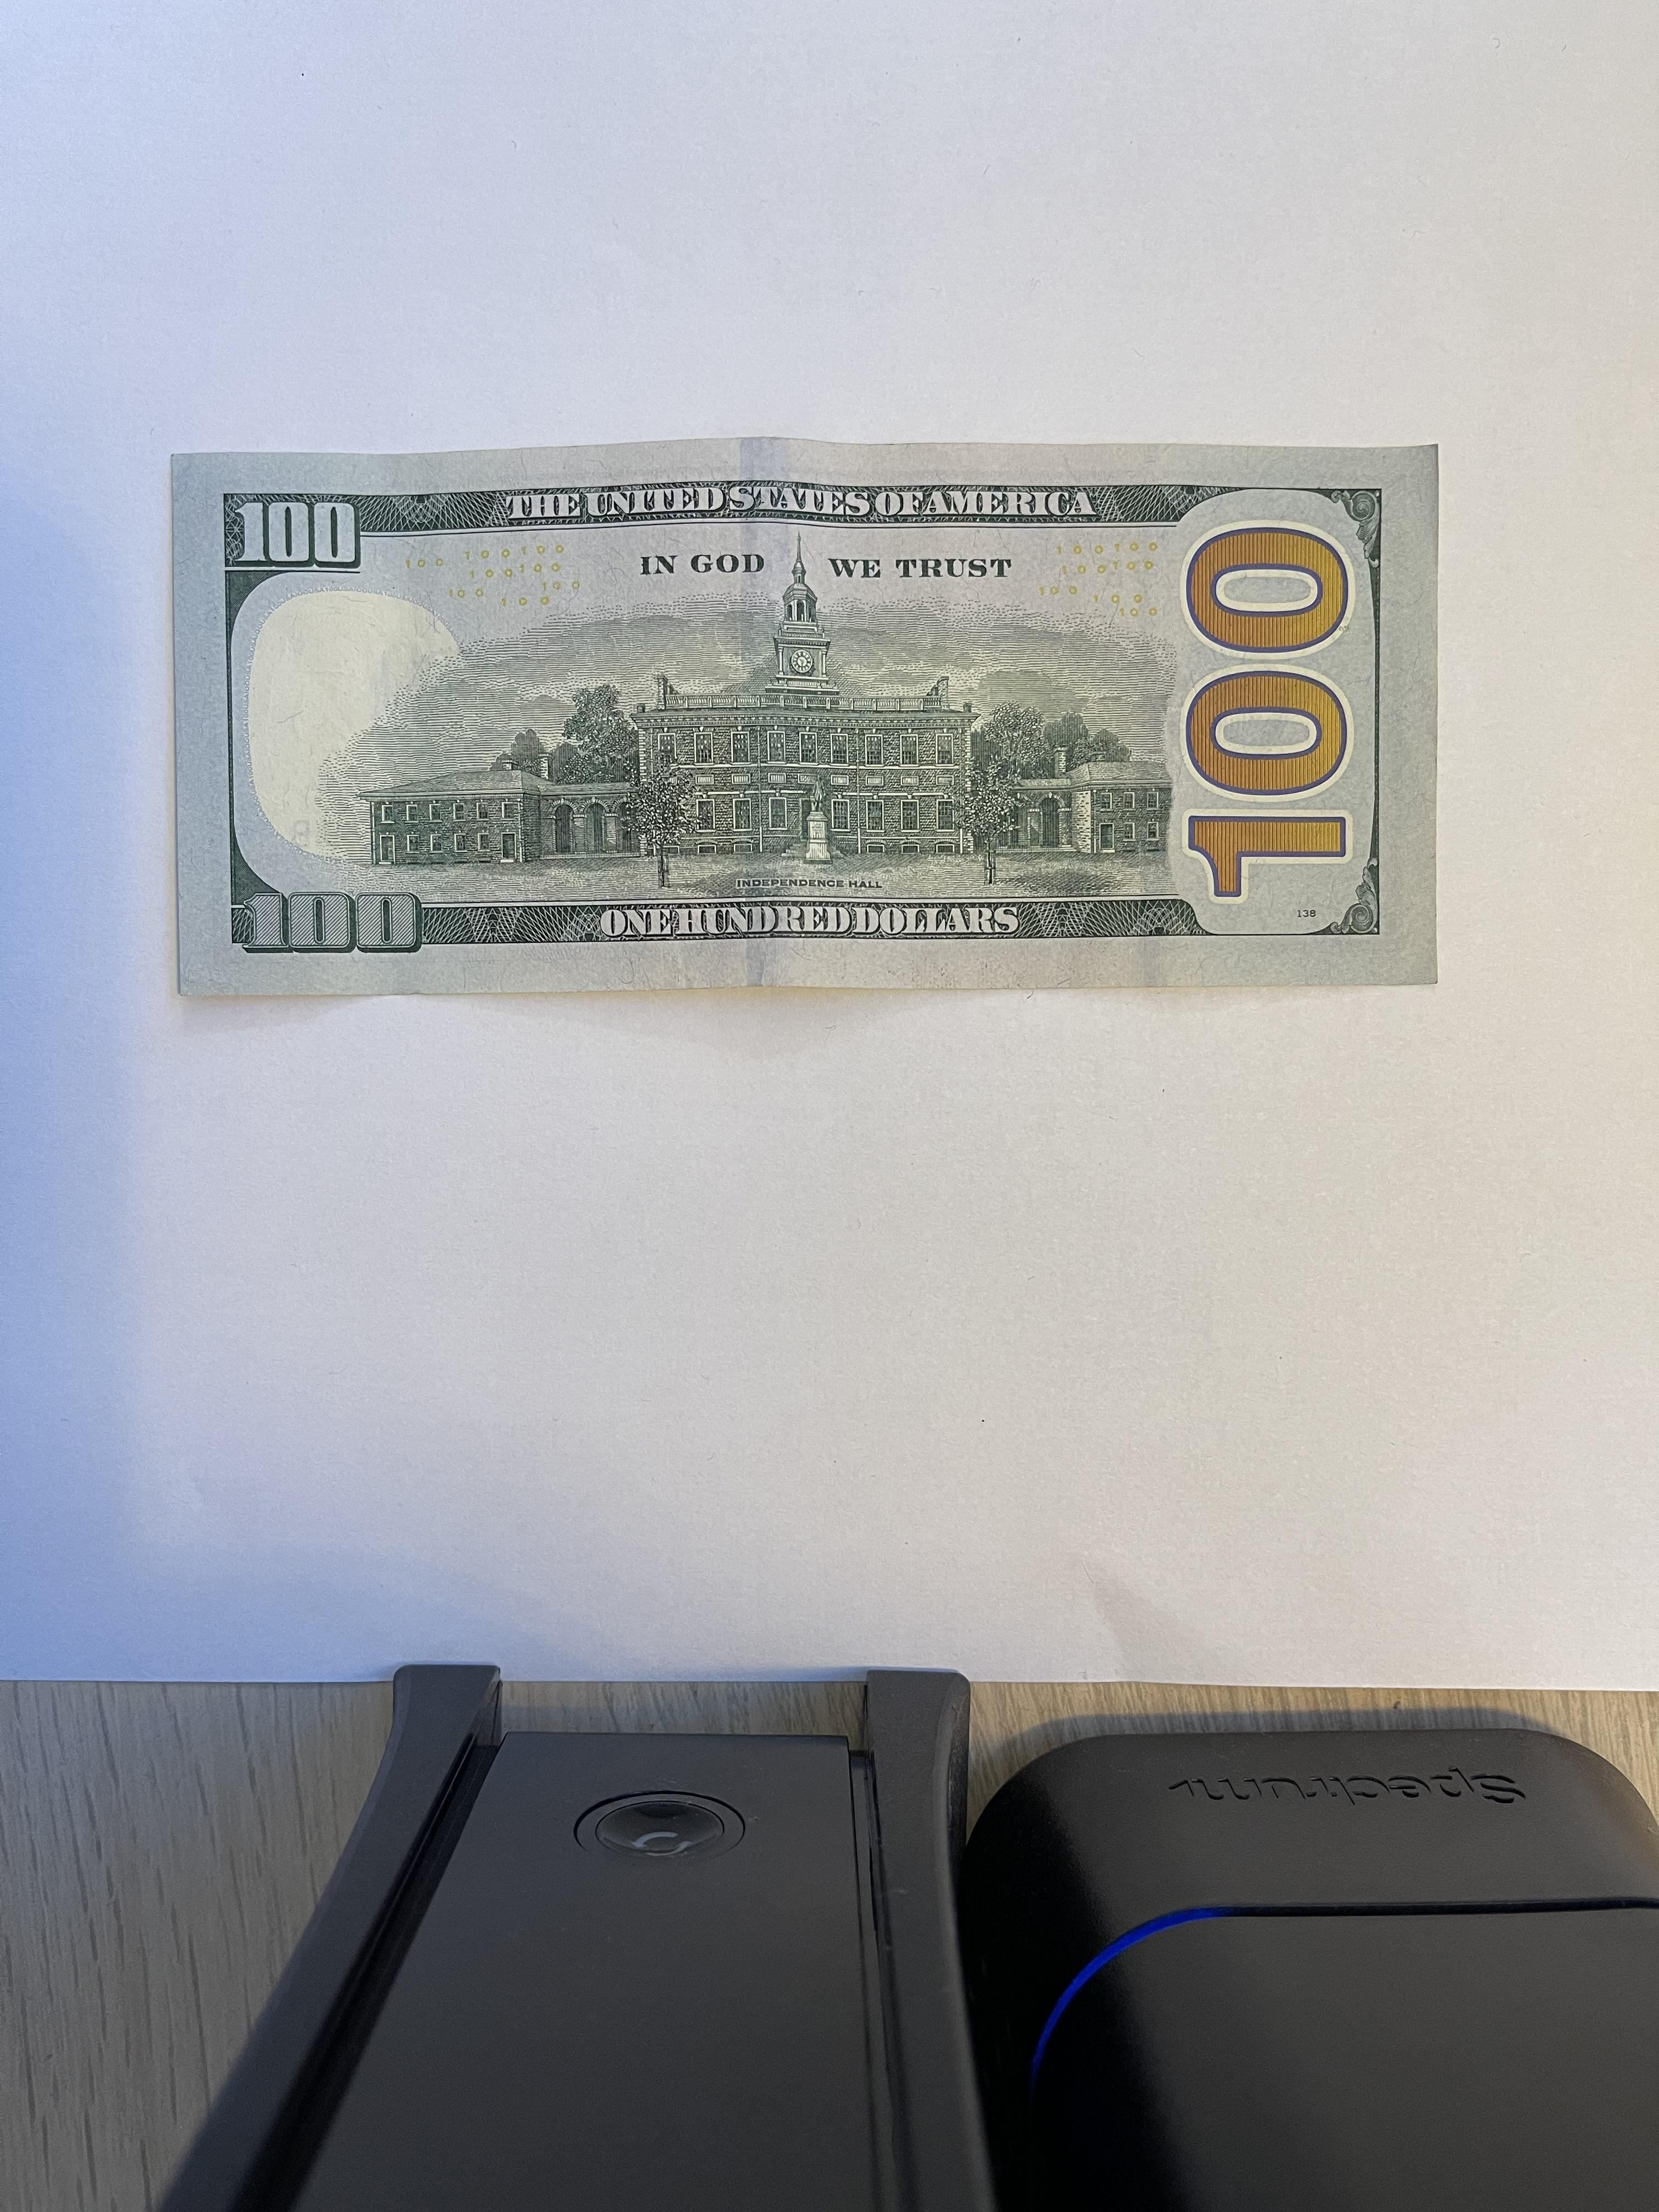HundredBill: (166, 435, 1443, 1000)
